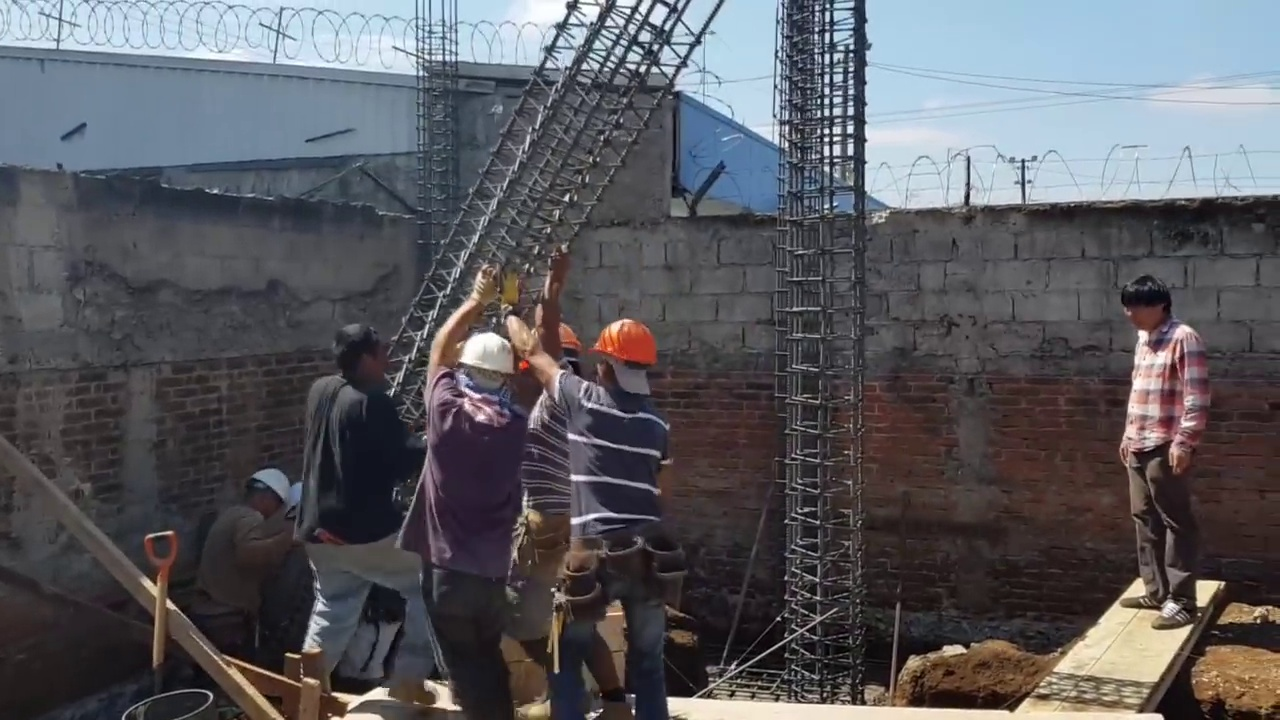helmet: (585, 317, 659, 364), (521, 323, 583, 372), (454, 336, 521, 379), (239, 473, 287, 514)
helmet-off: (334, 330, 391, 396), (1128, 279, 1184, 341)
helmet-on: (585, 317, 661, 406), (522, 319, 583, 403), (453, 332, 518, 410), (235, 472, 290, 520)
person: (553, 298, 683, 714), (419, 284, 523, 698), (300, 325, 421, 668), (1118, 284, 1216, 653), (182, 466, 306, 672), (513, 319, 583, 672)
